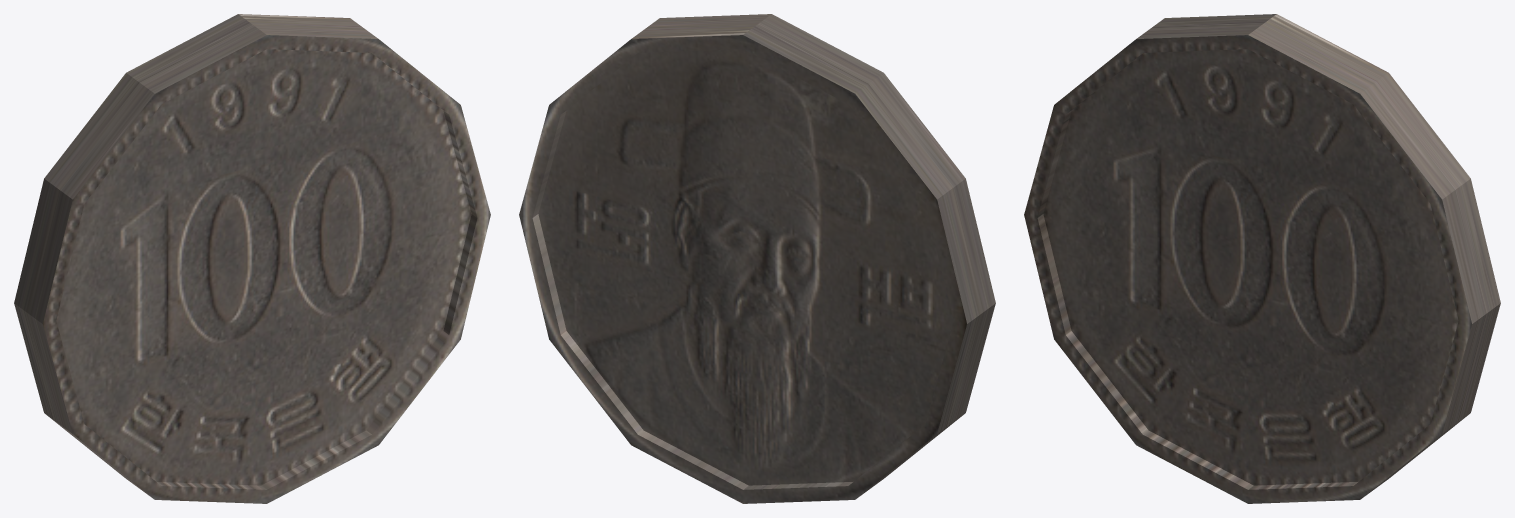
File: coin.glb
3 renders of one model, left to right at view 1: azimuth 30°, elevation 25°; view 2: azimuth 150°, elevation 25°; view 3: azimuth 330°, elevation 25°, orthographic.
Parts seen in each view (by area): view 1: 실린더.028; view 2: 실린더.028; view 3: 실린더.028.
Part boxes in pixels (bbox=[...]): 실린더.028: bbox=[14, 14, 490, 503]; 실린더.028: bbox=[519, 14, 995, 503]; 실린더.028: bbox=[1024, 14, 1500, 503].
Size of the model in its own units: 0.09 by 0.09 by 0.01.
Materials: 1 (1 with a texture image).
